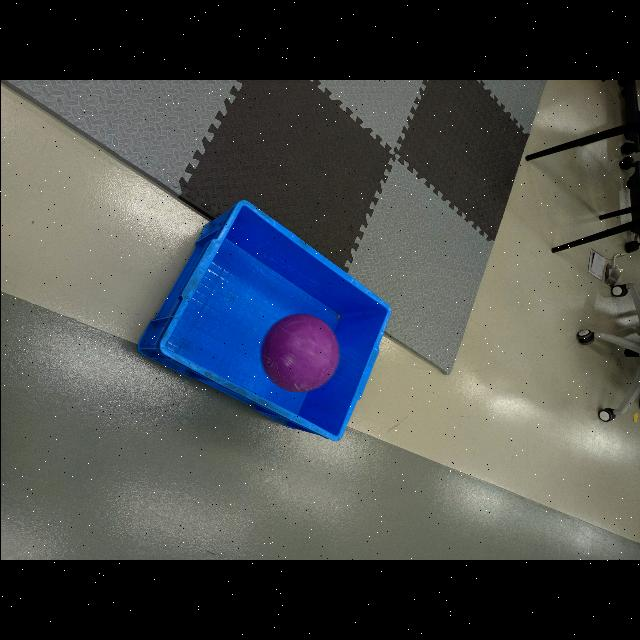P: (260, 314, 338, 392)
